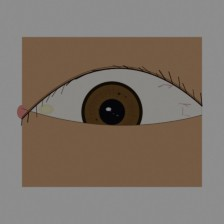pinguecula_lesion: (31, 97, 61, 122)
